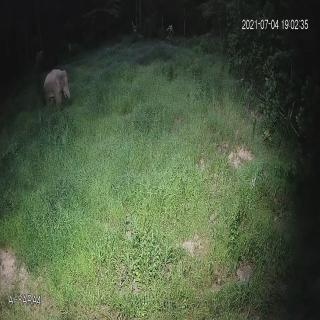Elephant: (43, 65, 73, 111)
